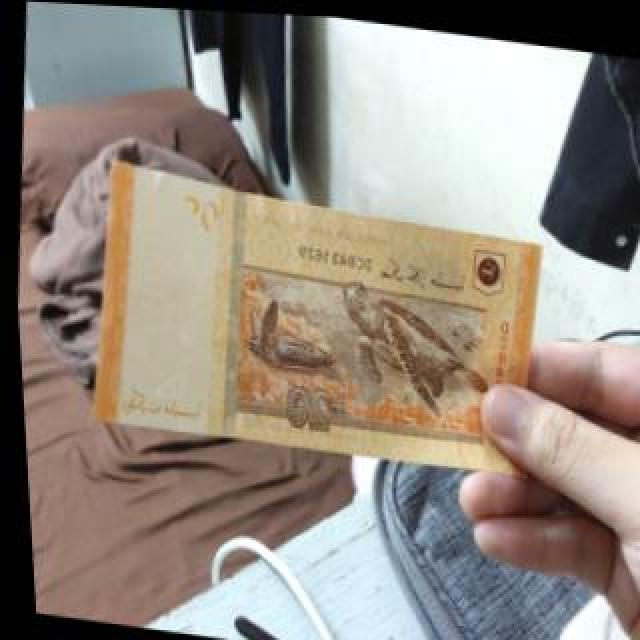20 Ringgit: (74, 168, 556, 477)
